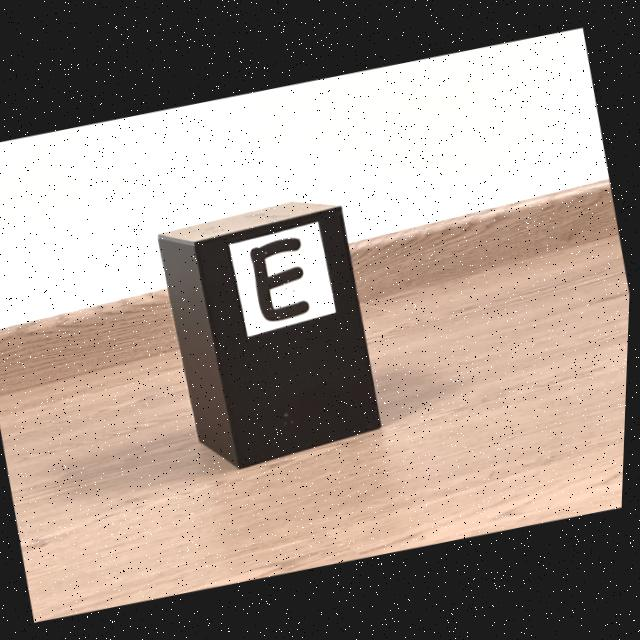E: (252, 236, 311, 320)
